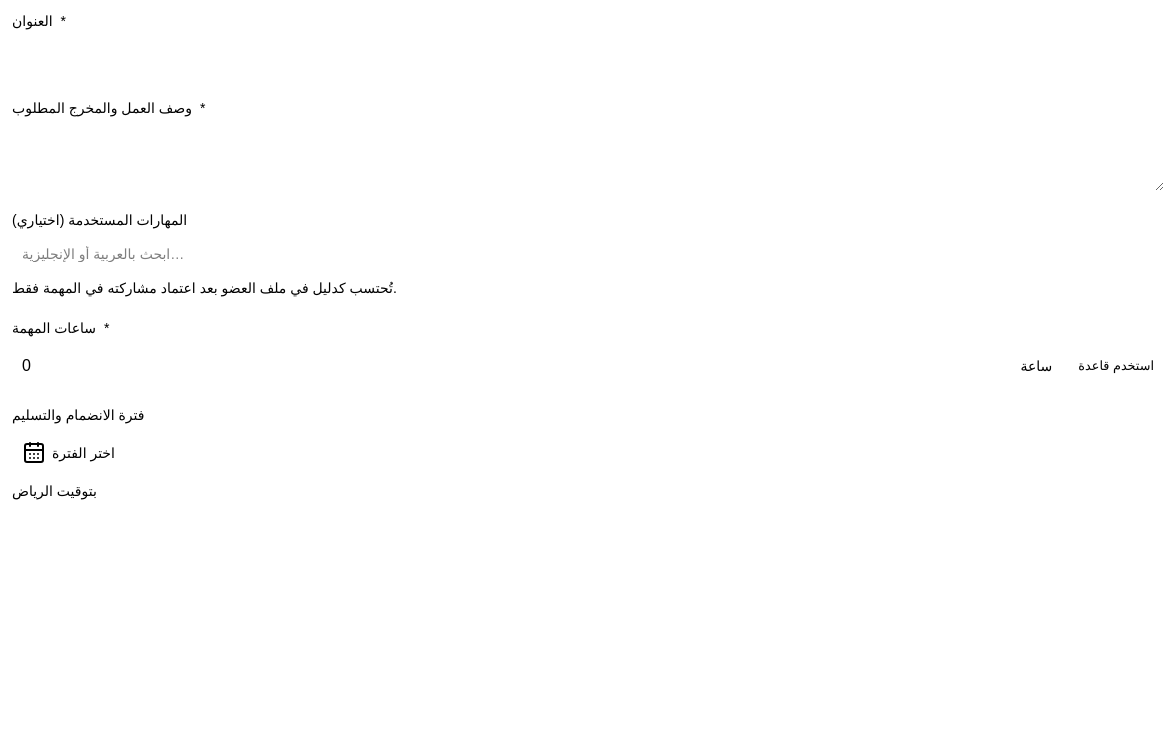
task hours field › switches the same field between manual hours and a rule
Expected: the number of number fields is 1, [12,346,1020,386]
Click the button "استخدم قاعدة".
click(1116, 366)  # box [1068,348,1164,384]
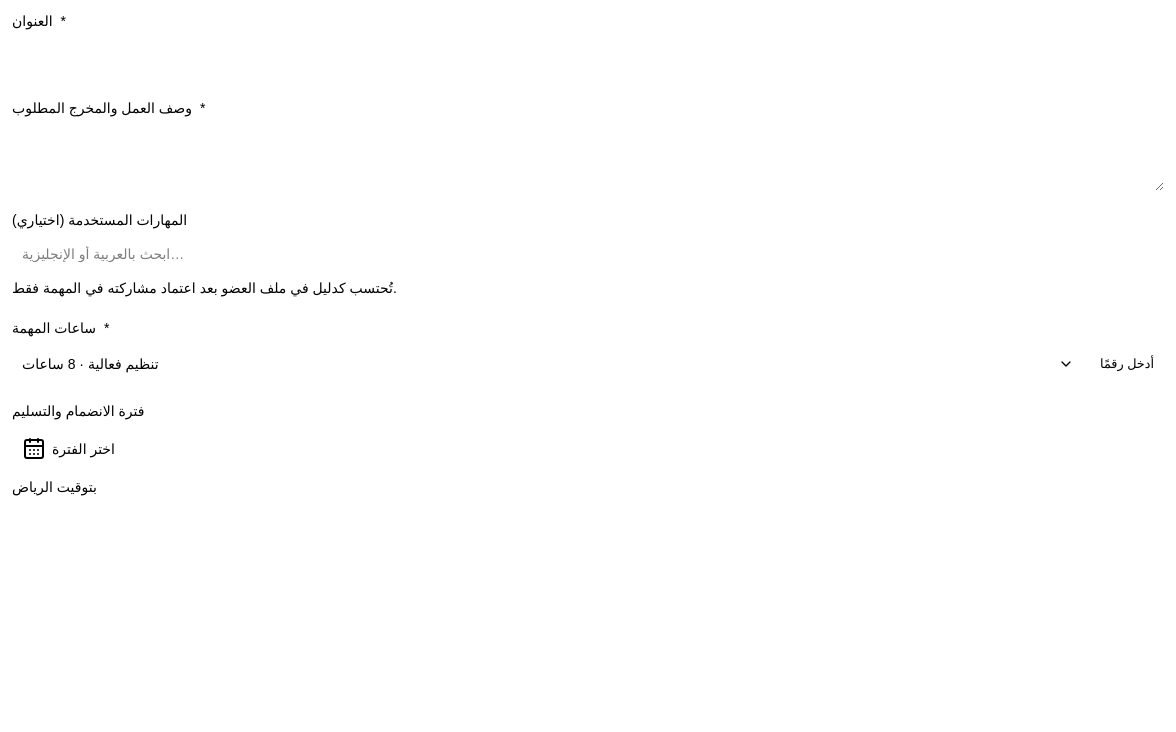
Expected: the element named "hours" holds "8", [12,319,1164,382]
Now no number fields are shown
Click the button "أدخل رقمًا".
click(1127, 364)  # box [1090,346,1164,382]
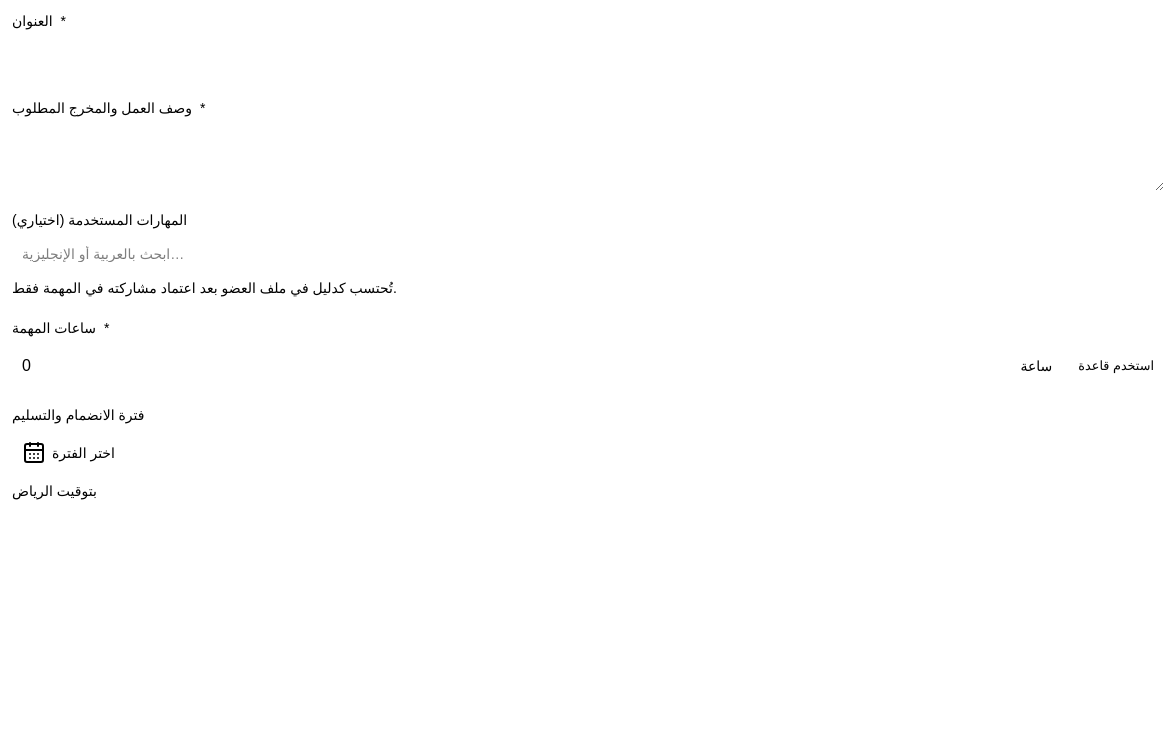
Expected: the element named "rule" is shown, [12,319,1164,386]
Now the number of number fields is 1, box [12,346,1020,386]
